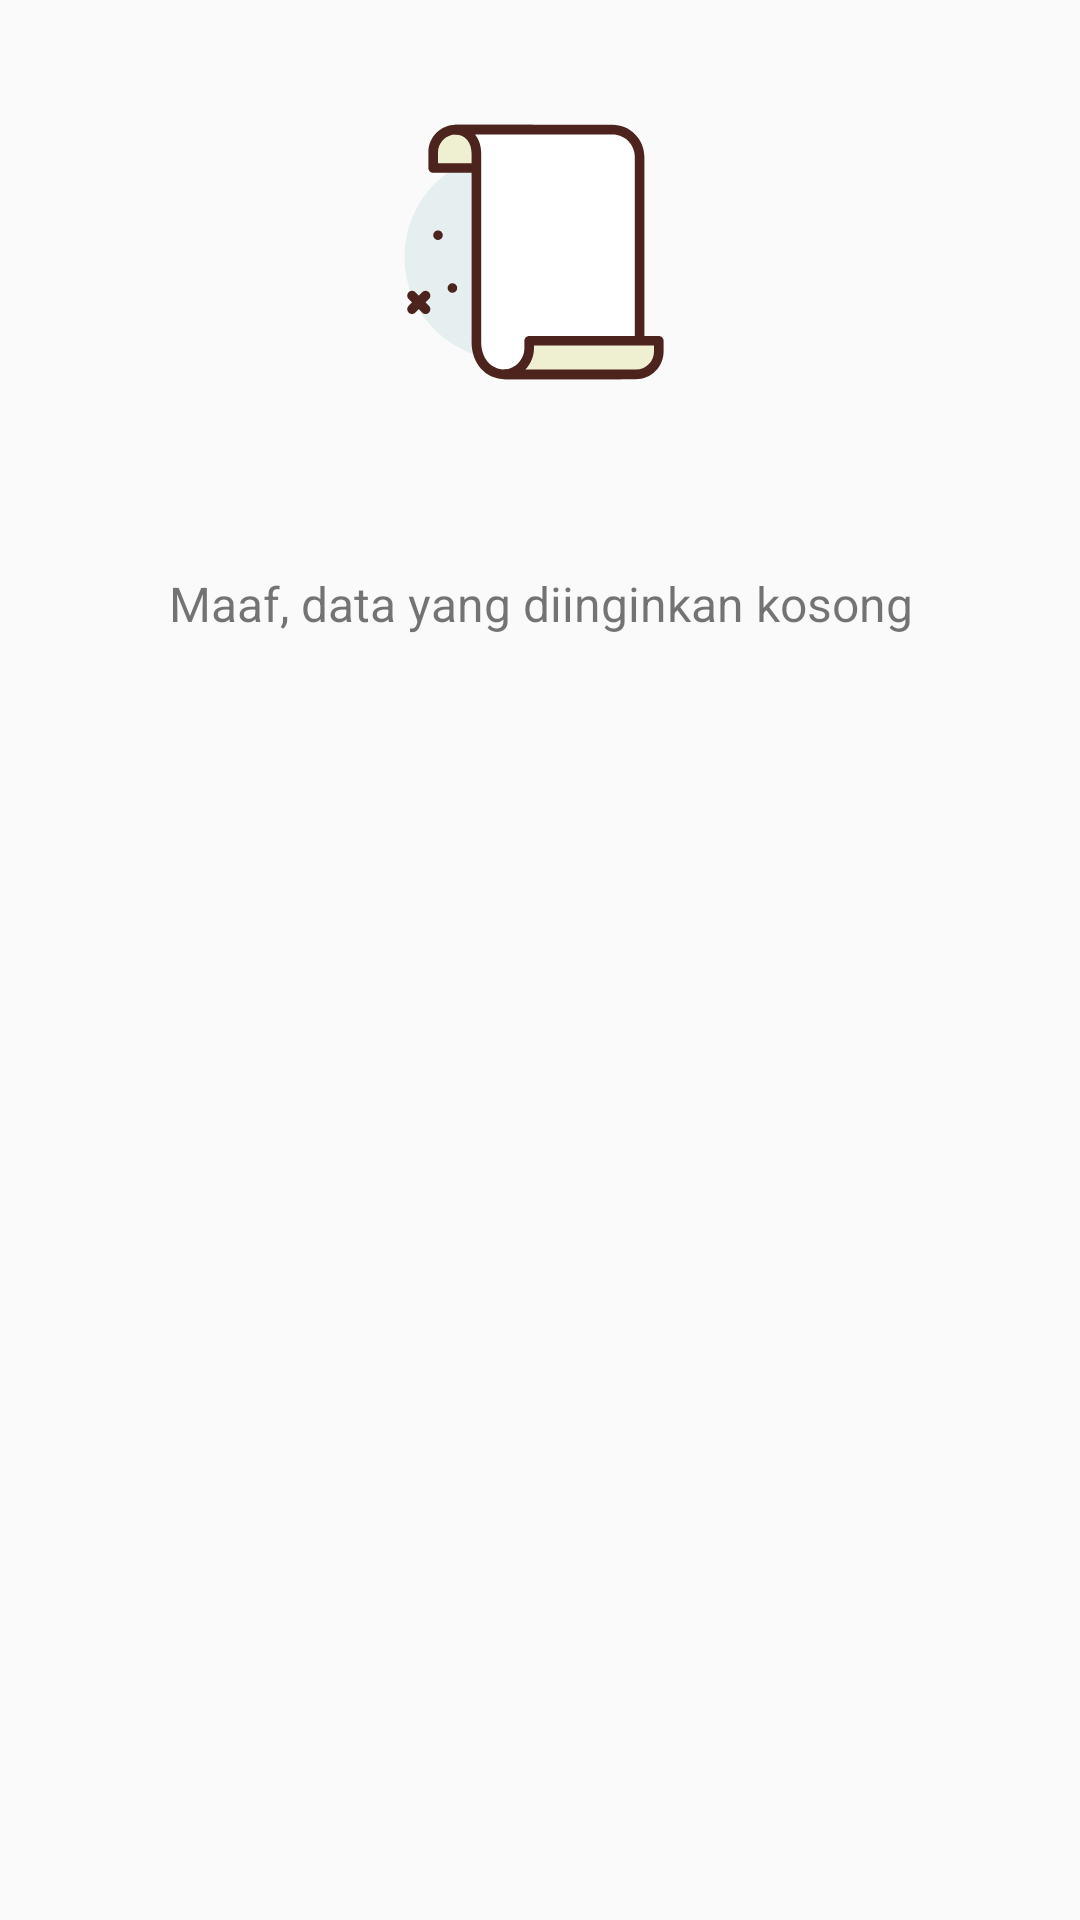

Icons on this 1080×1920 Android screen, each with the point to tap as (x=x, y=y):
empty: (x=535, y=252)
